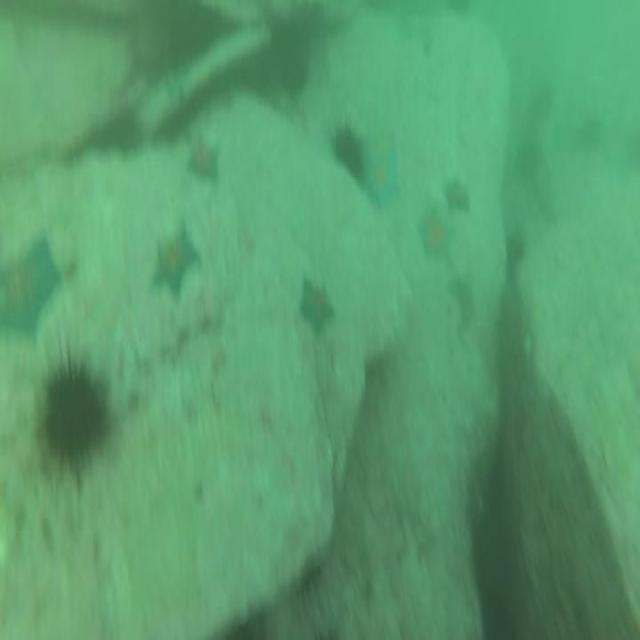echinus: (36, 349, 112, 487), (169, 0, 218, 58), (325, 119, 368, 177), (274, 44, 311, 96)
starfish: (0, 229, 61, 350), (149, 220, 201, 308), (412, 196, 460, 272), (296, 270, 338, 338), (359, 144, 402, 210), (183, 133, 226, 186), (440, 169, 474, 220)
